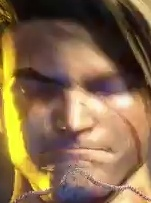kevin: (13, 22, 141, 194)
